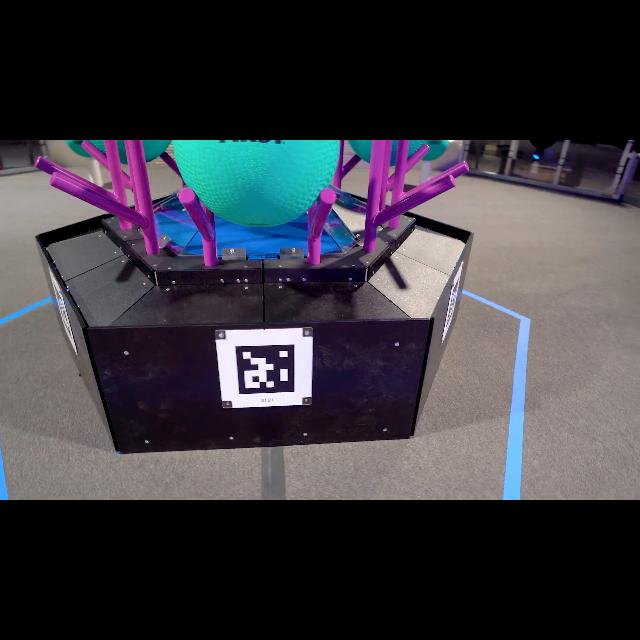ALGAE: (172, 140, 340, 228), (65, 140, 171, 164), (348, 140, 424, 166), (414, 140, 450, 160)
CORAL: (420, 160, 430, 186)
